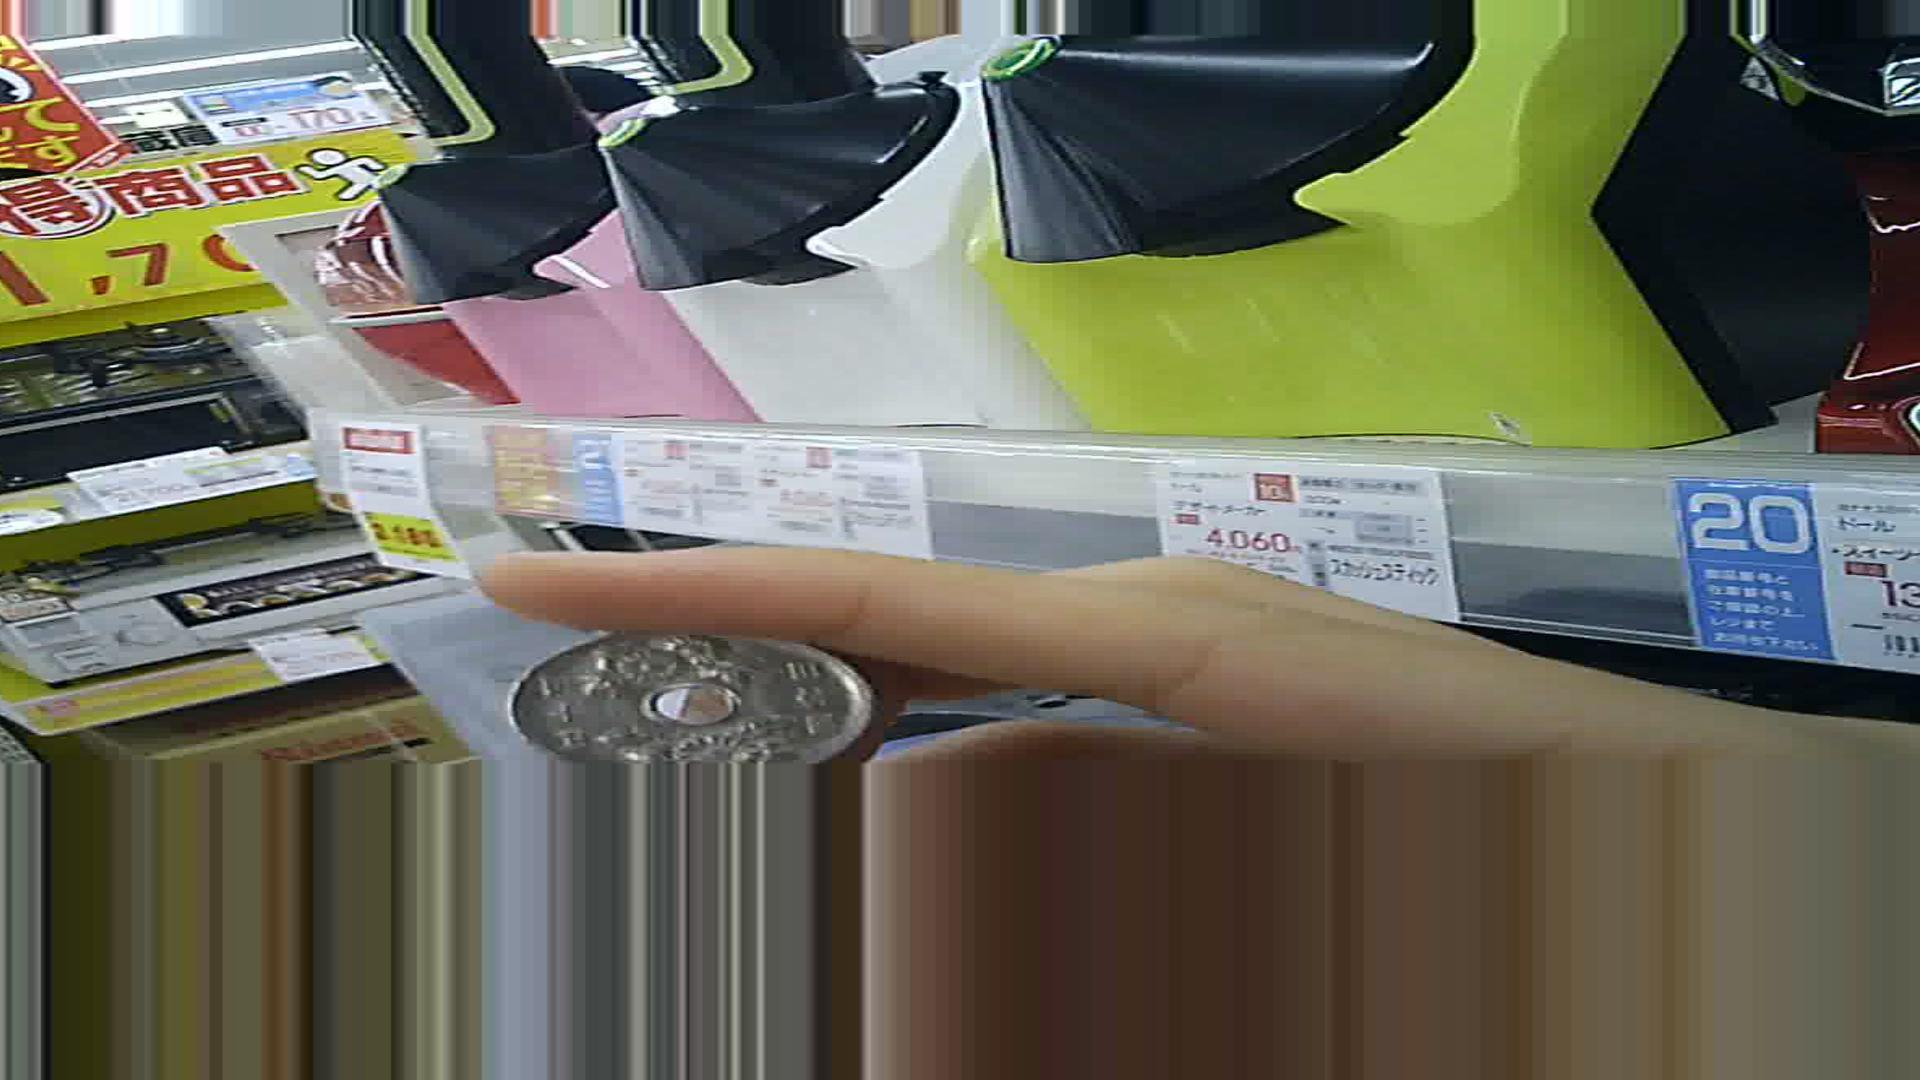50 Yen: (497, 612, 870, 760)
